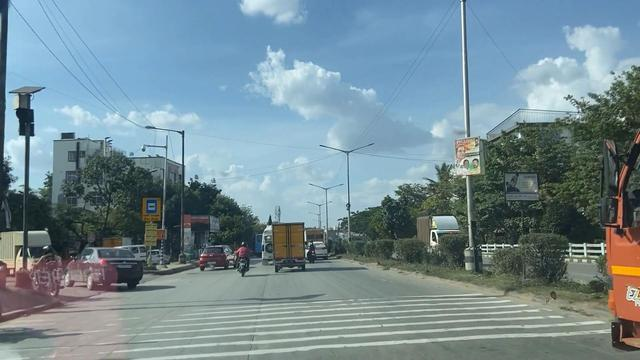HMV: (270, 218, 306, 272)
LMV: (76, 245, 137, 295), (194, 240, 238, 270), (236, 243, 249, 270)
SpeedBump: (29, 305, 563, 360)
